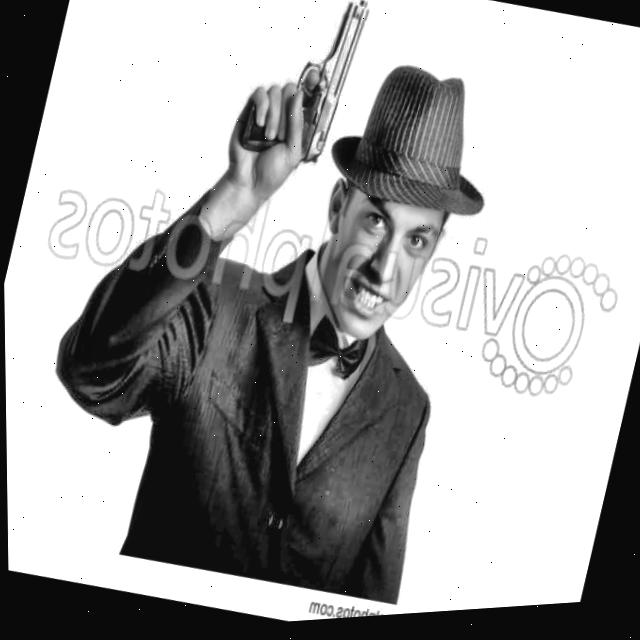pistol: (209, 0, 390, 196)
